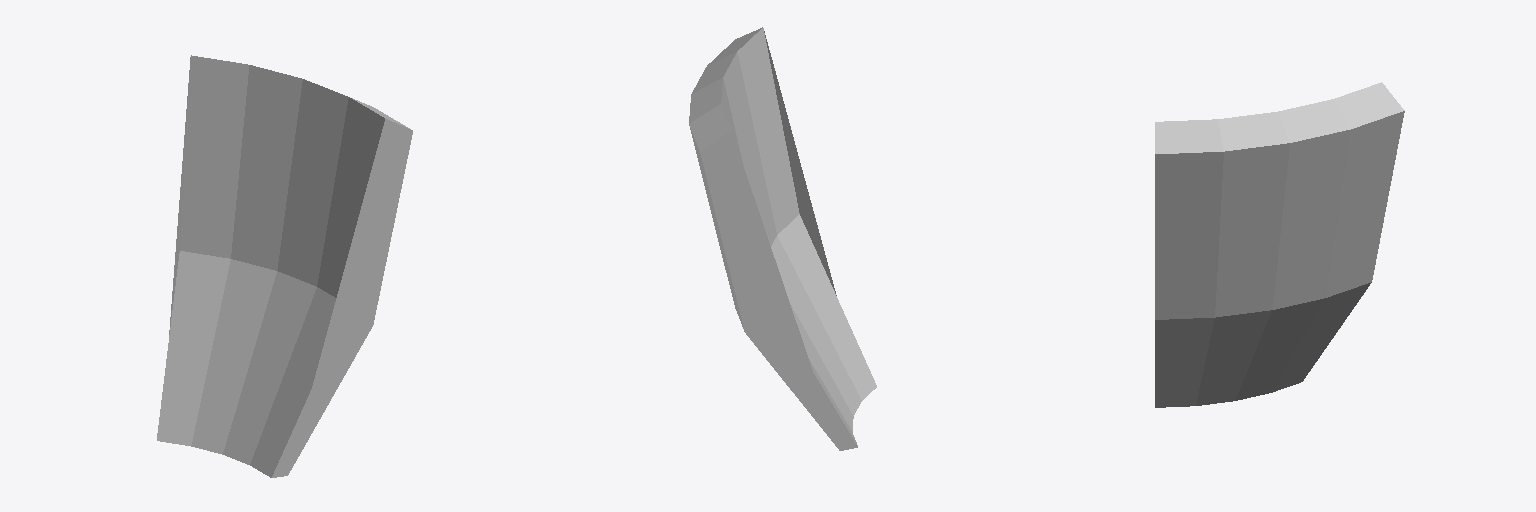
Rendered from Level_3_6.obj.
3 views of the same model, side by side, from view 1: azimuth 30°, elevation 25°; view 2: azimuth 150°, elevation 25°; view 3: azimuth 270°, elevation 25° (orthographic).
Parts seen in each view (by area): view 1: Level_3_6_Cylinder.042; view 2: Level_3_6_Cylinder.042; view 3: Level_3_6_Cylinder.042.
Part boxes in pixels (left/top/right/bottom): Level_3_6_Cylinder.042: left=157, top=55, right=412, bottom=477; Level_3_6_Cylinder.042: left=689, top=27, right=876, bottom=450; Level_3_6_Cylinder.042: left=1155, top=82, right=1404, bottom=407.
Size of the model in its own units: 1.33 by 2.23 by 1.51.